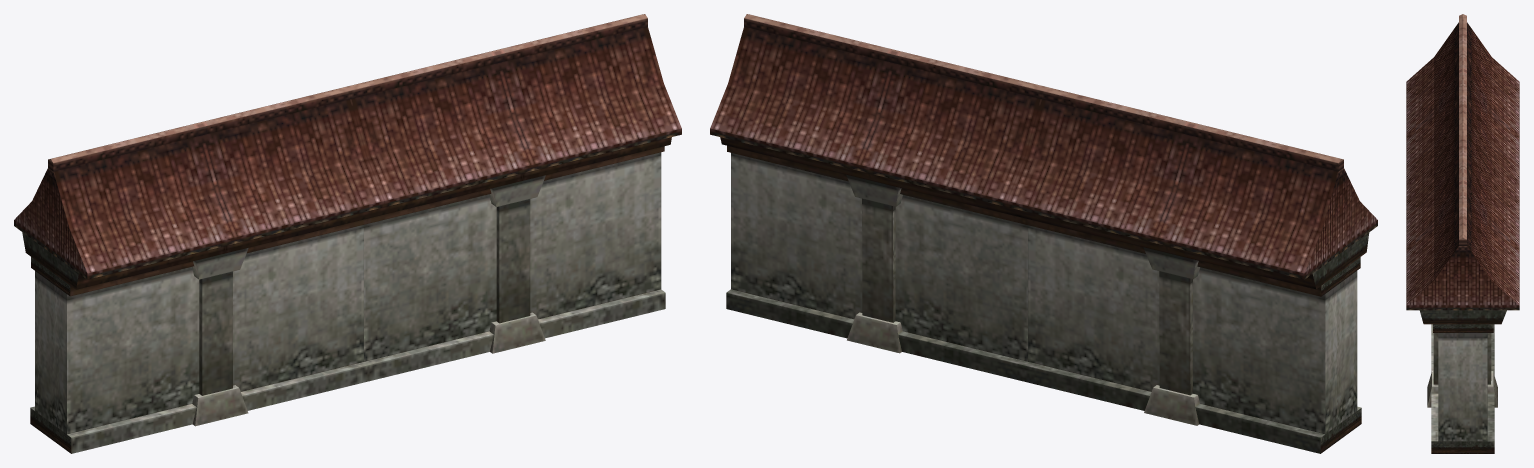
File: a1-038-wall-lin2.glb
The picture shows the model from 3 angles, left to right: view 1: azimuth 30°, elevation 25°; view 2: azimuth 150°, elevation 25°; view 3: azimuth 270°, elevation 25°; orthographic projection. The views are drawn at different scales.
Visible parts, largest first — view 1: b1-038-wall-lin2; view 2: b1-038-wall-lin2; view 3: b1-038-wall-lin2.
Part boxes in pixels (box(x1,y1,x2,y2)): b1-038-wall-lin2: box(14, 14, 681, 453); b1-038-wall-lin2: box(710, 14, 1377, 453); b1-038-wall-lin2: box(1406, 14, 1519, 453).
Size of the model in its own units: 10 by 4.5 by 2.13.
Materials: 1 (1 with a texture image).
